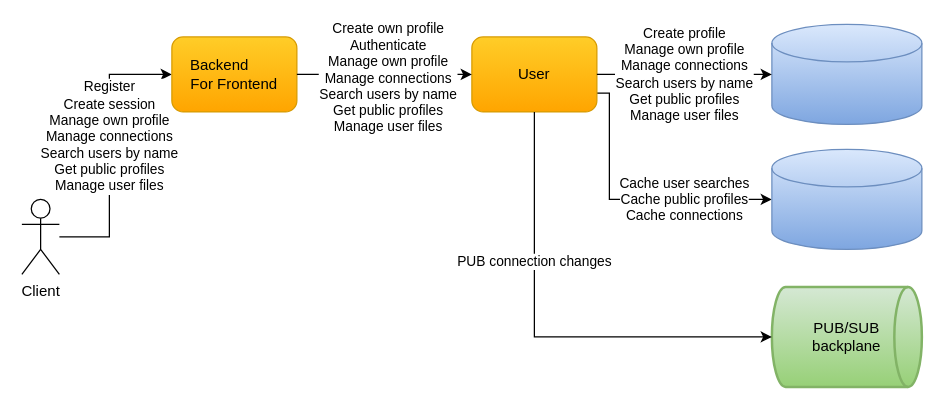
Some shapes in this 945 by 410 pixel diagram are drawn without their labels. Here are the shapes that lost their labels. From the top down, the centre of each, then its label:
At [846,73]: "User DB".
At [846,198]: "User cache".
